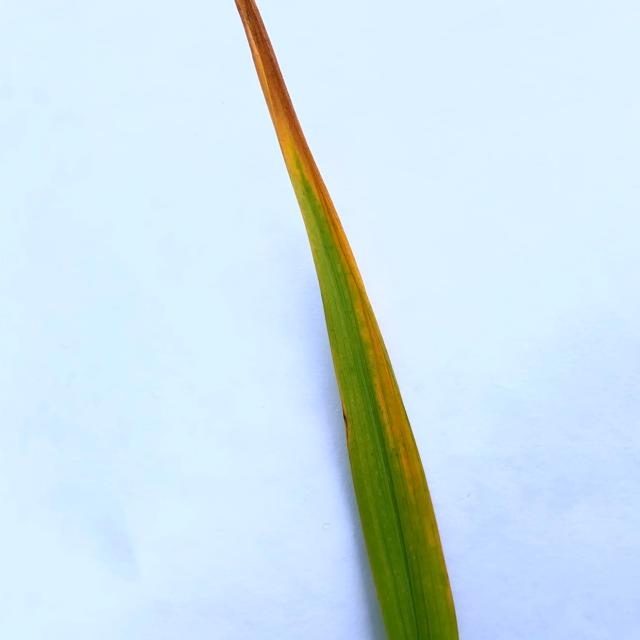tungro: (223, 0, 439, 560)
